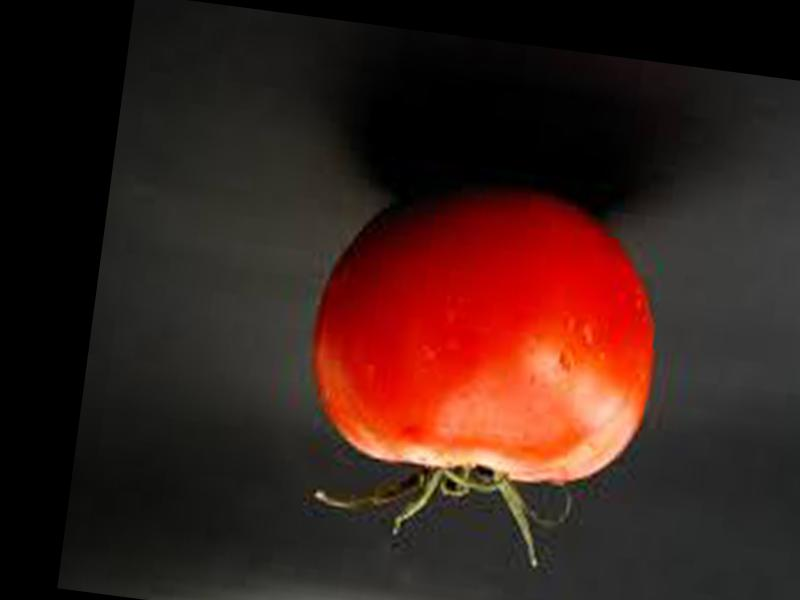Tomato: (301, 168, 676, 495)
